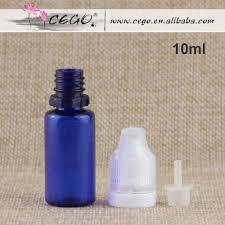Container for household chemicals: (37, 58, 103, 209)
Unknown plastic: (108, 112, 155, 215), (165, 157, 204, 209)
